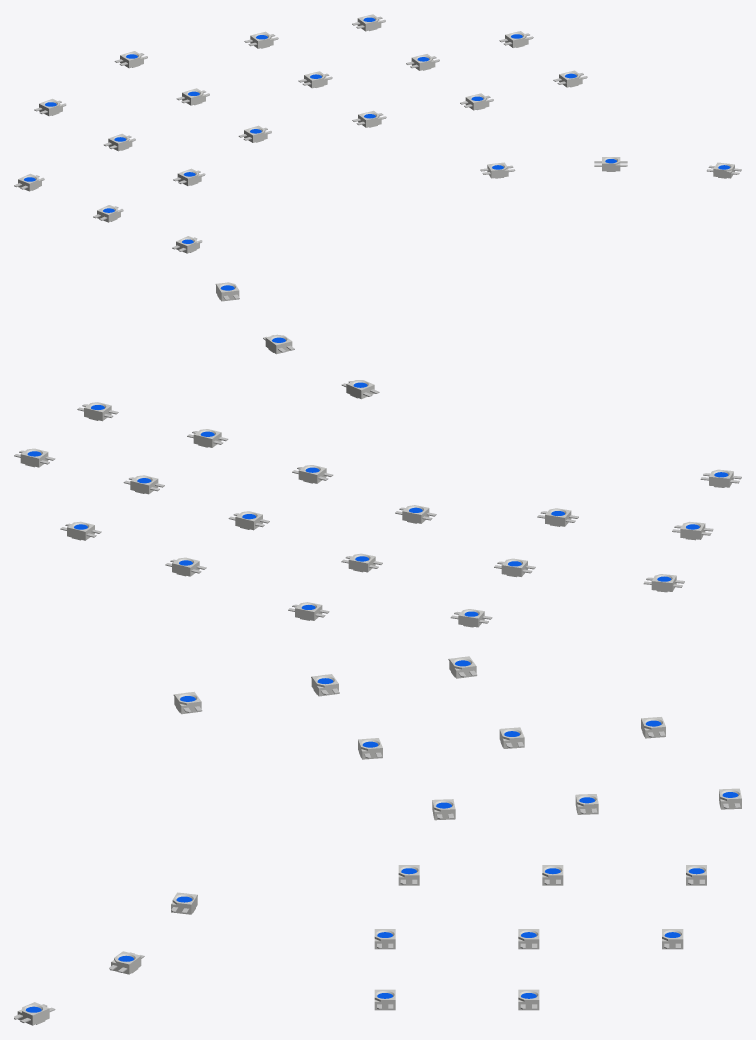
The model's file is lights.glb.
3 views of the same model, one above another, from view 1: azimuth 30°, elevation 25°; view 2: azimuth 150°, elevation 25°; view 3: azimuth 270°, elevation 25° (orthographic). The views are drawn at different scales.
Visible parts, largest first — view 1: no part large enough to name; view 2: no part large enough to name; view 3: =>[0:1:1:3].
Part boxes in pixels (left/top/right/bottom): =>[0:1:1:3]: left=14, top=1002, right=55, bottom=1025.
Bounding box in the file's own units: 0.1146 × 0.00163 × 0.0965.
